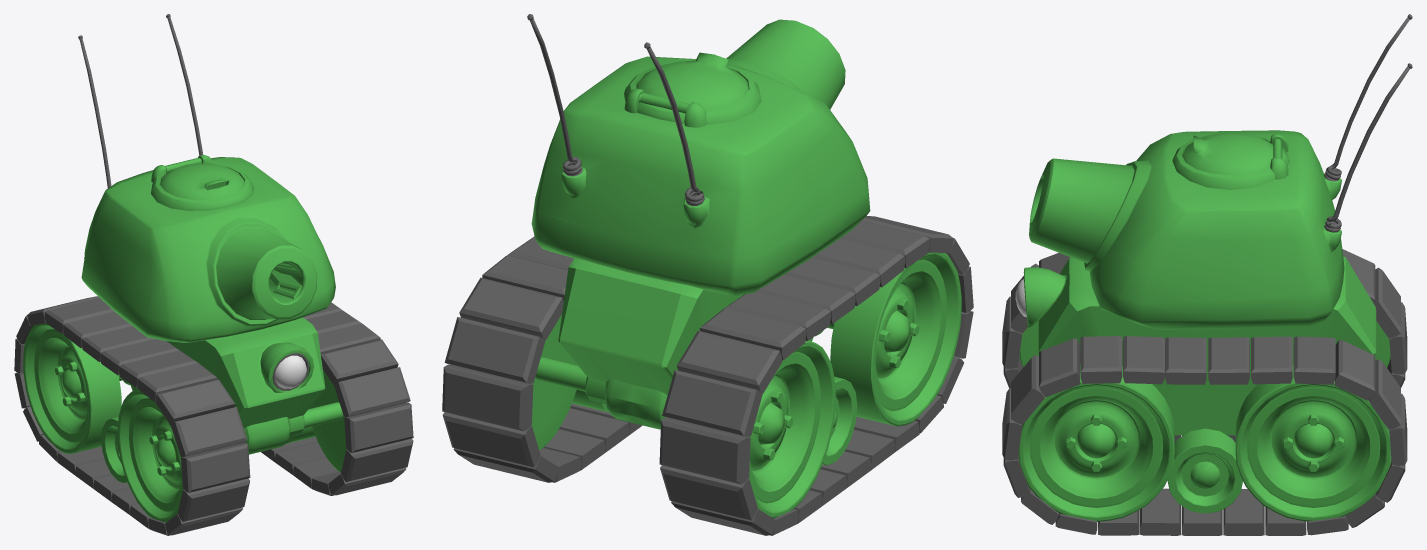
The model's file is Tank_Alternative_Model.fbx.
The picture shows the model from 3 angles, left to right: view 1: azimuth 30°, elevation 25°; view 2: azimuth 150°, elevation 25°; view 3: azimuth 270°, elevation 25°; orthographic projection. The views are drawn at different scales.
Parts seen in each view (by area): view 1: TankTurret.001, TankTracksRight, TankTracksLeft, TankChassis.001; view 2: TankTurret.001, TankTracksRight, TankTracksLeft, TankChassis.001; view 3: TankTracksLeft, TankTurret.001, TankChassis.001, TankTracksRight.
Part boxes in pixels (bbox=[...]): TankTurret.001: bbox=[78, 14, 335, 342]; TankTracksRight: bbox=[14, 296, 250, 535]; TankTracksLeft: bbox=[261, 302, 413, 495]; TankChassis.001: bbox=[101, 317, 325, 483]; TankTurret.001: bbox=[527, 14, 870, 295]; TankTracksRight: bbox=[659, 216, 973, 535]; TankTracksLeft: bbox=[442, 236, 642, 482]; TankChassis.001: bbox=[558, 258, 857, 465]; TankTracksLeft: bbox=[1002, 336, 1407, 535]; TankTurret.001: bbox=[1029, 14, 1412, 329]; TankChassis.001: bbox=[1015, 256, 1376, 513]; TankTracksRight: bbox=[1002, 249, 1407, 442].
Bounding box in the file's own units: 154 × 249 × 212.
